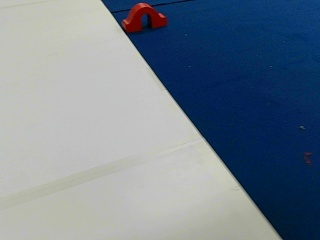bridge: (122, 3, 166, 29)
